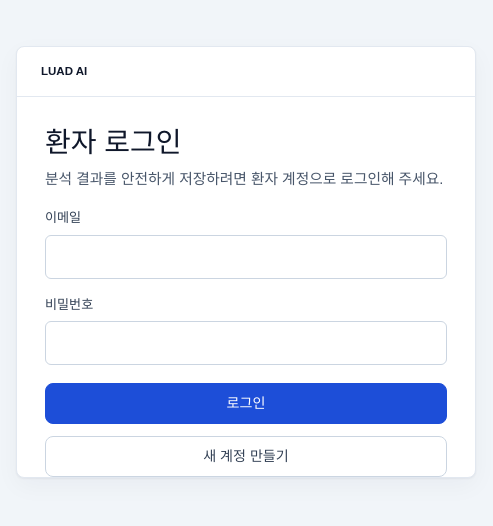
Scenario: shows a Korean message for {"code":"over_request_rate_limit","message":"Rate limit exceeded"}
Type "test@example.com" into the field labelled "이메일" at (246, 257), box [45, 235, 447, 279]
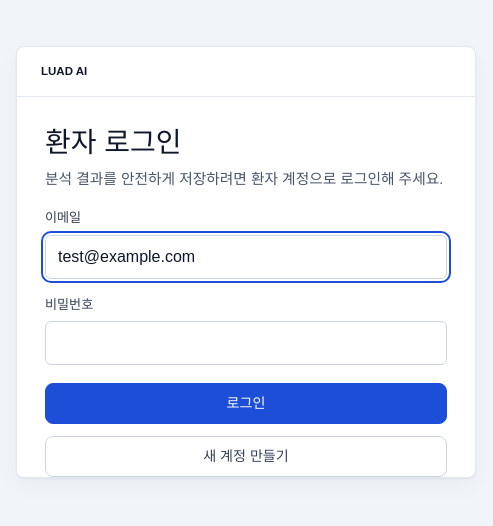
Type "wrong-password" into the password field labelled "비밀번호" at (246, 343), box [45, 321, 447, 365]
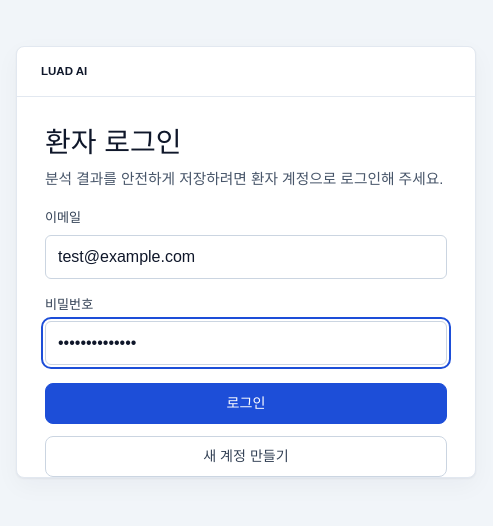
Click the button "로그인" at (246, 404), box [45, 383, 447, 424]
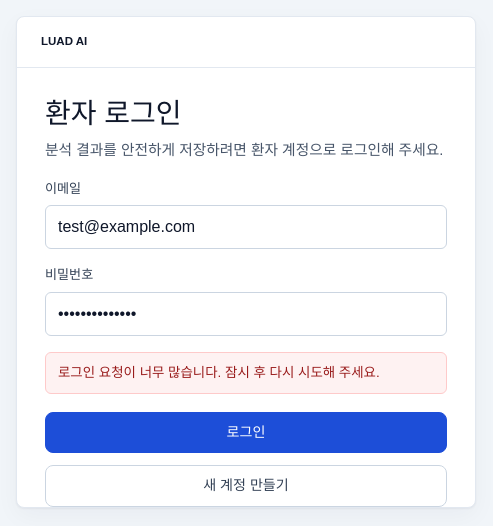
expect the button "로그인" is enabled: met, box [45, 412, 447, 453]
expect the text "로그인 요청이 너무 많습니다. 잠시 후 다시 시도해 주세요." is shown: met, box [45, 352, 447, 394]
